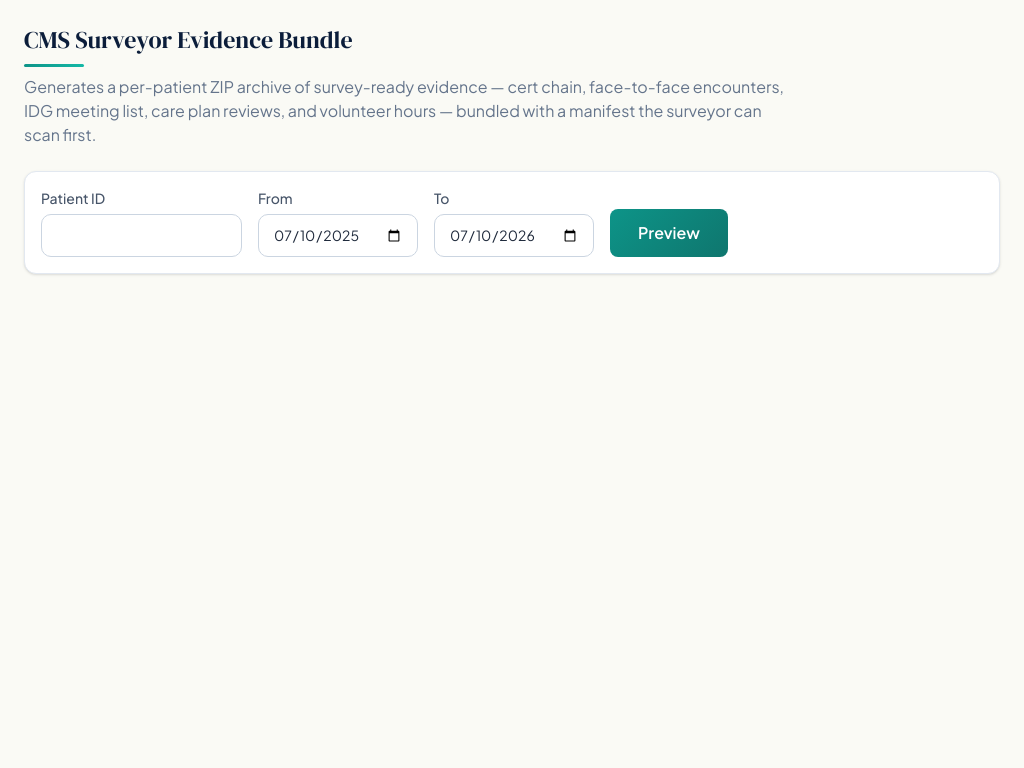
Test: SurveyorBundlePage › downloads the bundle when the download button is clicked
In the number field labelled "Patient ID": [142, 236] box [41,214,242,257], type "100"
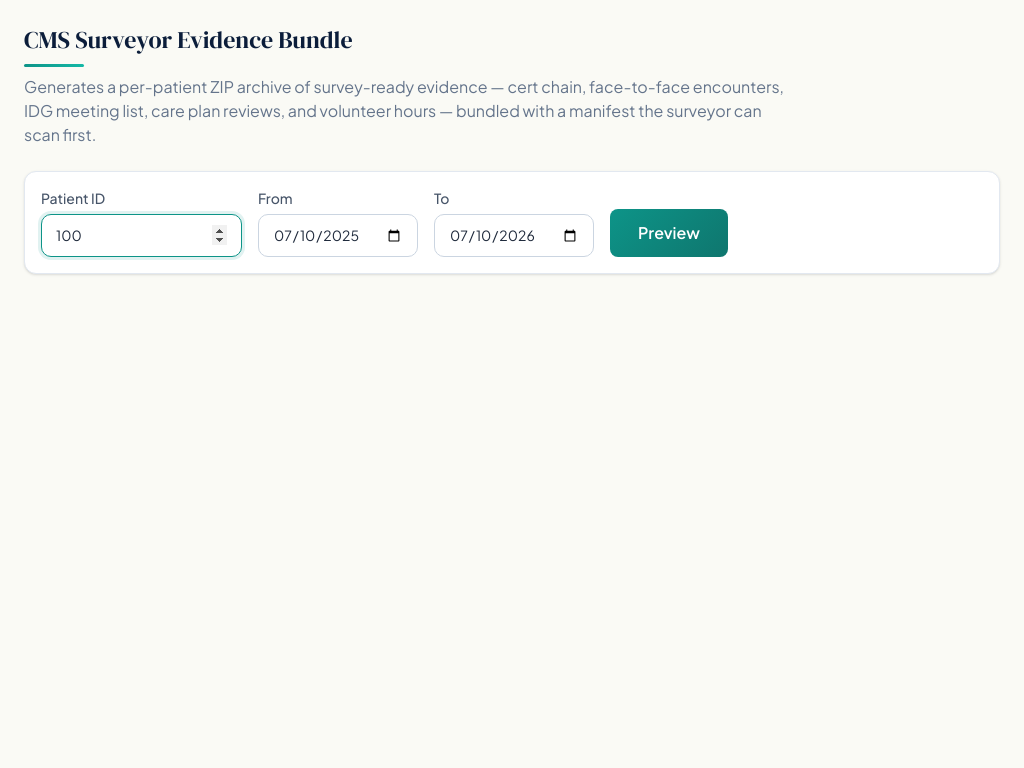
Click the button "Preview": [669, 233] box [610,209,728,257]
(page scrolled)
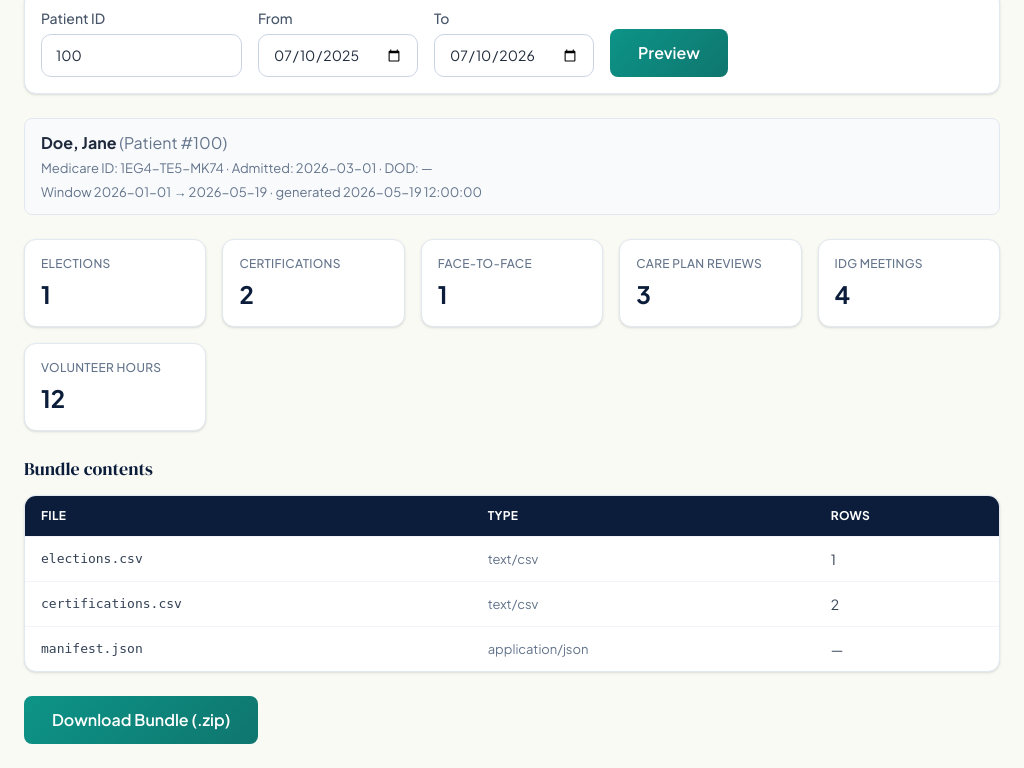
Check: the button "Download Bundle (.zip)" is shown
Click the button "Download Bundle (.zip)": [141, 720] box [24,696,258,744]
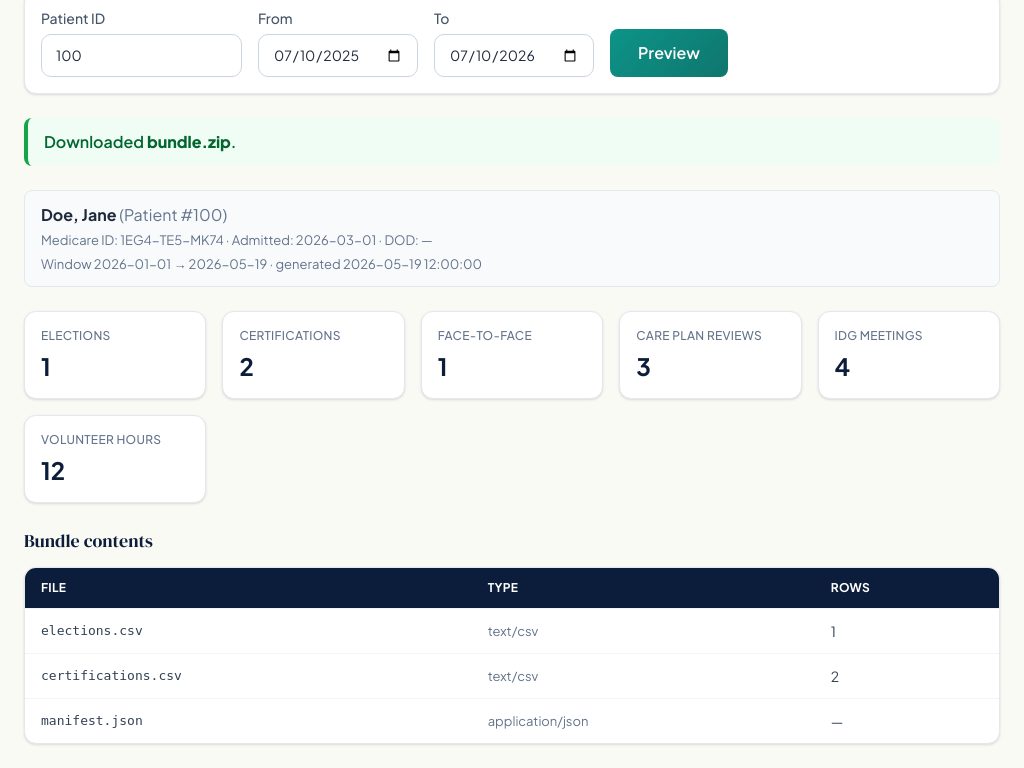
Check: the text "Downloaded bundle.zip." is shown, box [24,118,1000,166]
